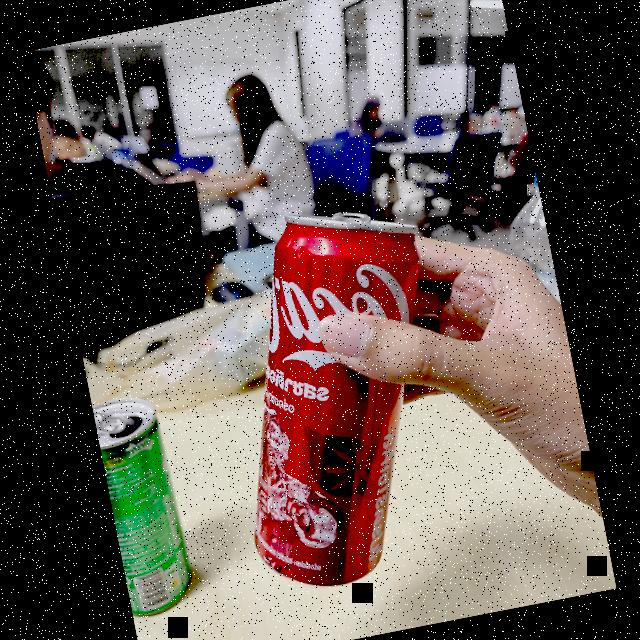can: (168, 181, 498, 609), (92, 392, 210, 628)
